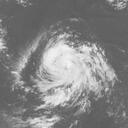cyclone: (39, 42, 107, 105)
